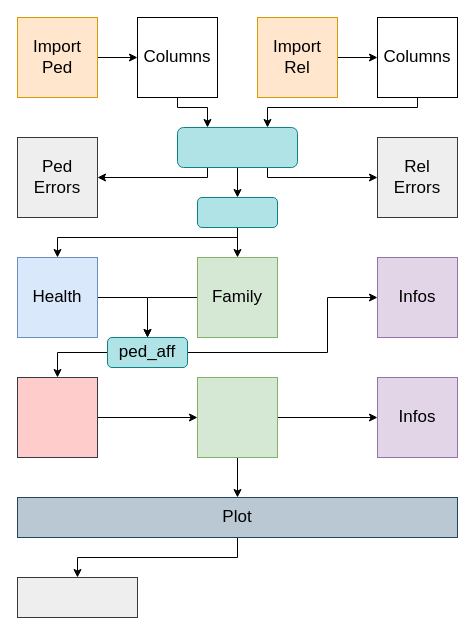
Image size: 475x635. Some labels were removed from this diagram. The centre of each missing label's shape, as x and y in pixels:
"Download" belongs at [77,597].
"Filter" belongs at [57,417].
"Normalize" belongs at [237,147].
"ped_all" belongs at [237,212].
"Sub-family" belongs at [237,417].
